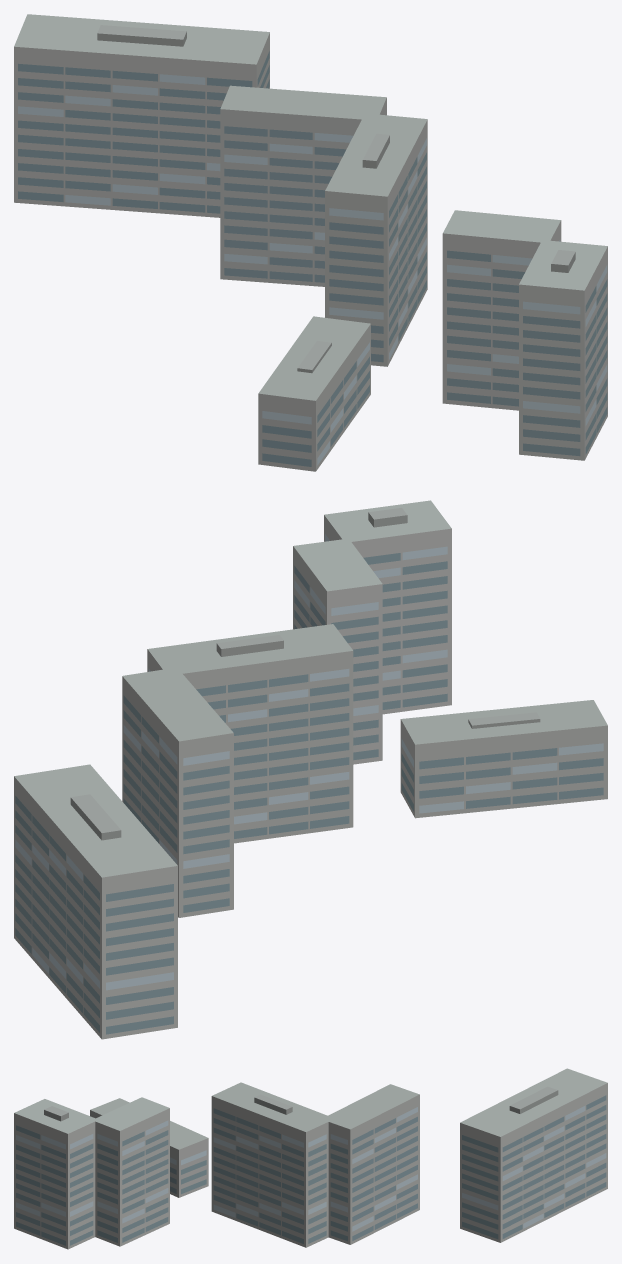
File: apt-a13527004.glb
3 renders of one model, top to bottom at view 1: azimuth 30°, elevation 25°; view 2: azimuth 150°, elevation 25°; view 3: azimuth 270°, elevation 25°, orthographic. The views are drawn at different scales.
Visible parts, largest first — view 1: apt-a13527004; view 2: apt-a13527004; view 3: apt-a13527004.
Part boxes in pixels (x1,y1,x2,y2): apt-a13527004: (14,14,607,471); apt-a13527004: (14,500,607,1039); apt-a13527004: (14,1068,607,1249).
Bounding box in the file's own units: 70.14 × 38.25 × 170.
